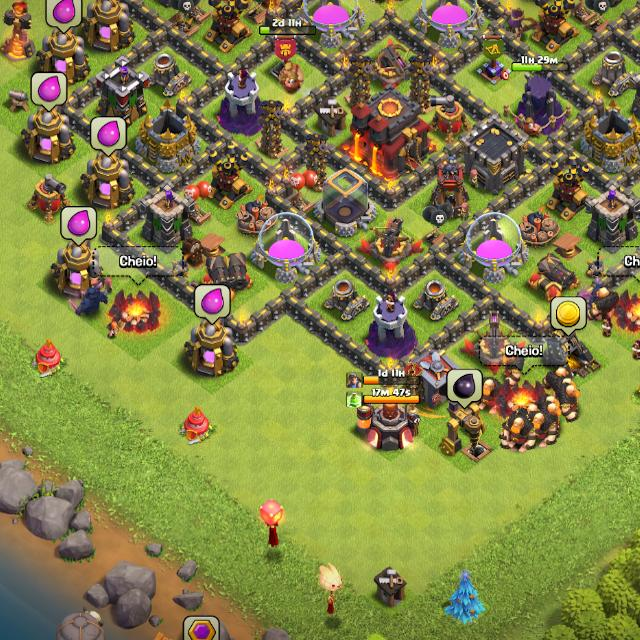Elixir: (30, 71, 68, 113), (60, 205, 97, 247), (90, 116, 127, 157), (194, 284, 231, 325), (45, 0, 83, 34)
ElixirNegro: (446, 369, 483, 409)
coin: (550, 296, 587, 336)
